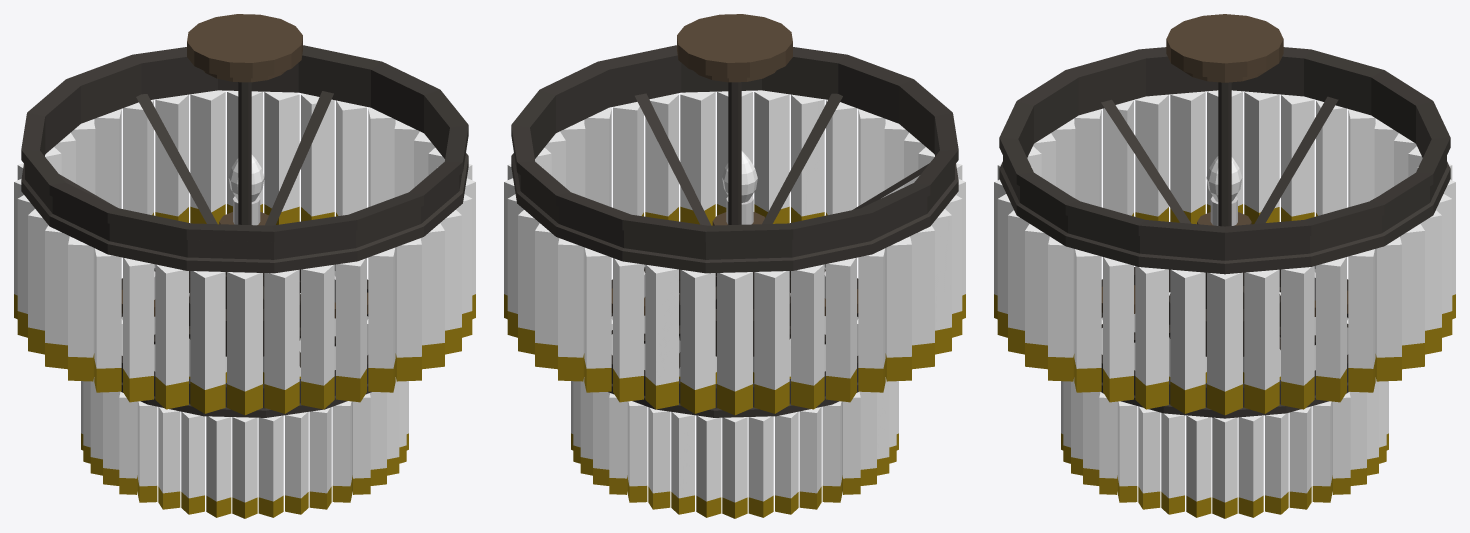
Rendered from SM_Lamp_05.glb.
3 views of the same model, side by side, from view 1: azimuth 30°, elevation 25°; view 2: azimuth 150°, elevation 25°; view 3: azimuth 270°, elevation 25° (orthographic).
Visible parts, largest first — view 1: SM_Lamp_05; view 2: SM_Lamp_05; view 3: SM_Lamp_05.
Boxes of the visible parts, bbox=[...] form: SM_Lamp_05: bbox=[14, 14, 475, 518]; SM_Lamp_05: bbox=[504, 14, 965, 518]; SM_Lamp_05: bbox=[994, 14, 1455, 518].
Bounding box in the file's own units: 0.9641 × 0.9468 × 0.9641.
Materials: 1 (1 with a texture image).
